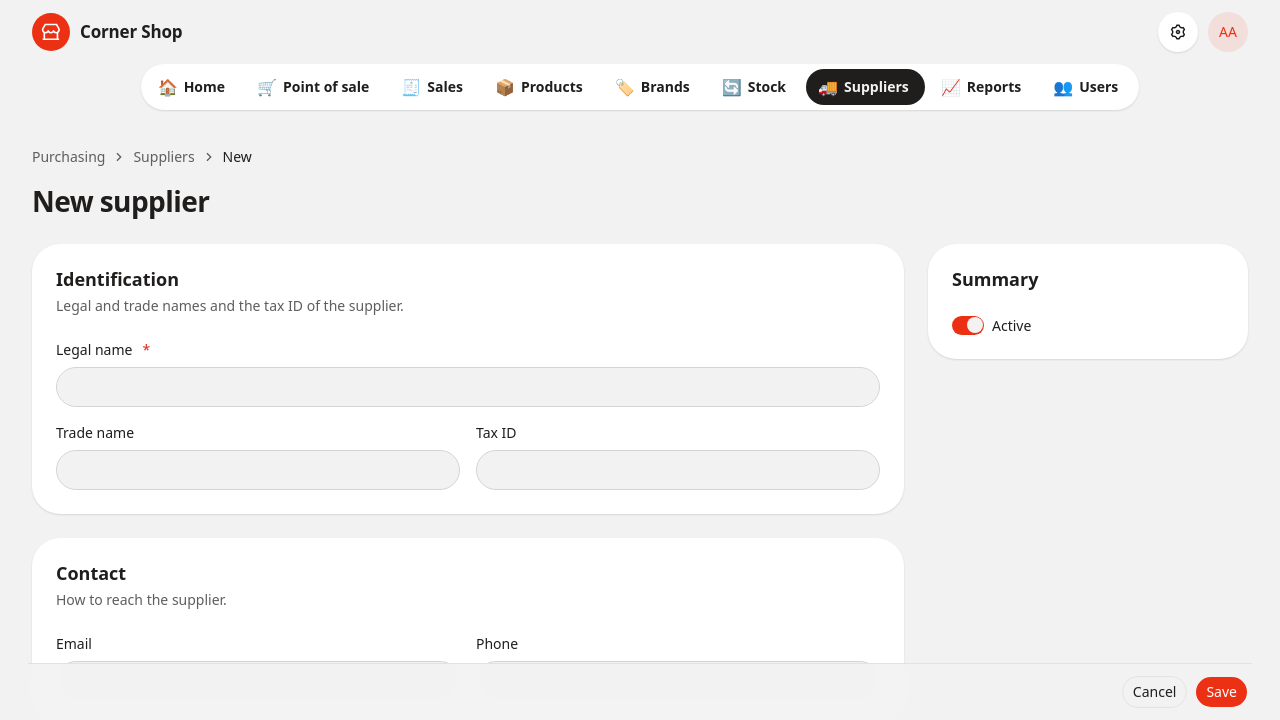
Scenario: SupplierFormPage › shows a duplicate tax ID error on the field
The width and height of the screenshot is (1280, 720).
In the field labelled "Legal name": (468, 387) 56,367 -> 880,407, type "Acme Ltda"
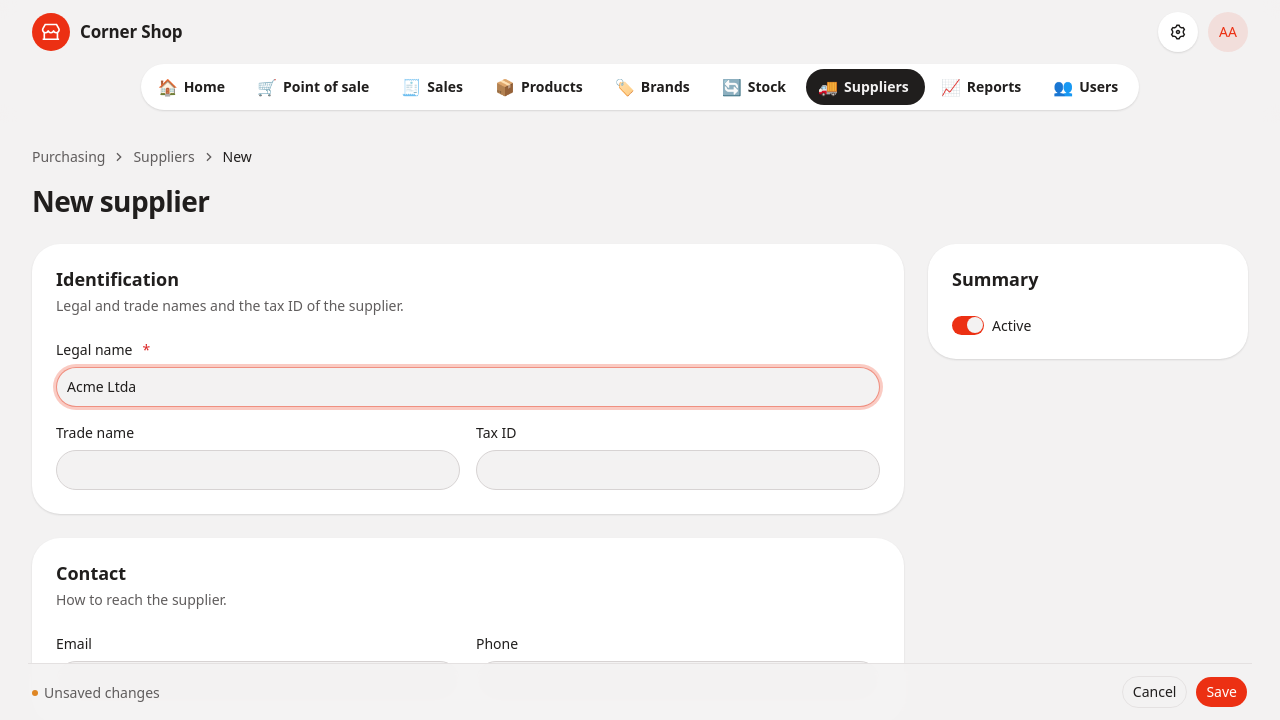
In the field labelled "Tax ID": (678, 470) 476,450 -> 880,490, type "123"
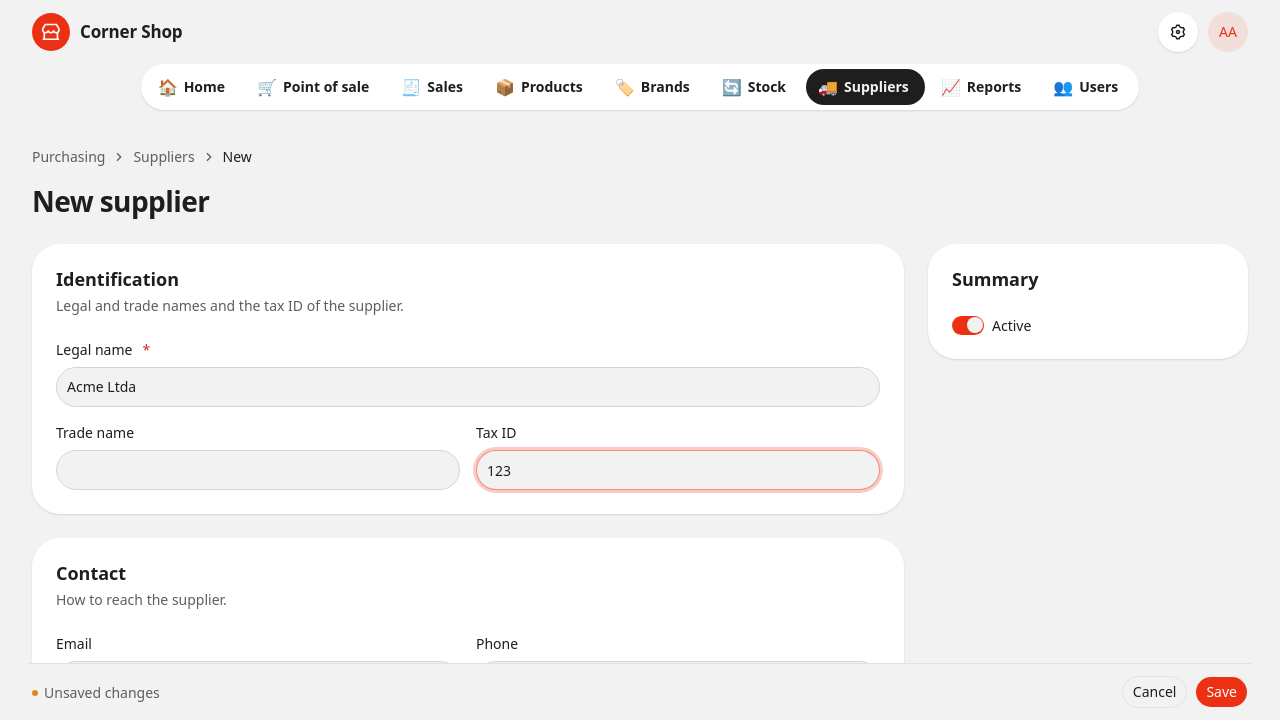
Click the button "Save": (1222, 692) 1195,676 -> 1248,708
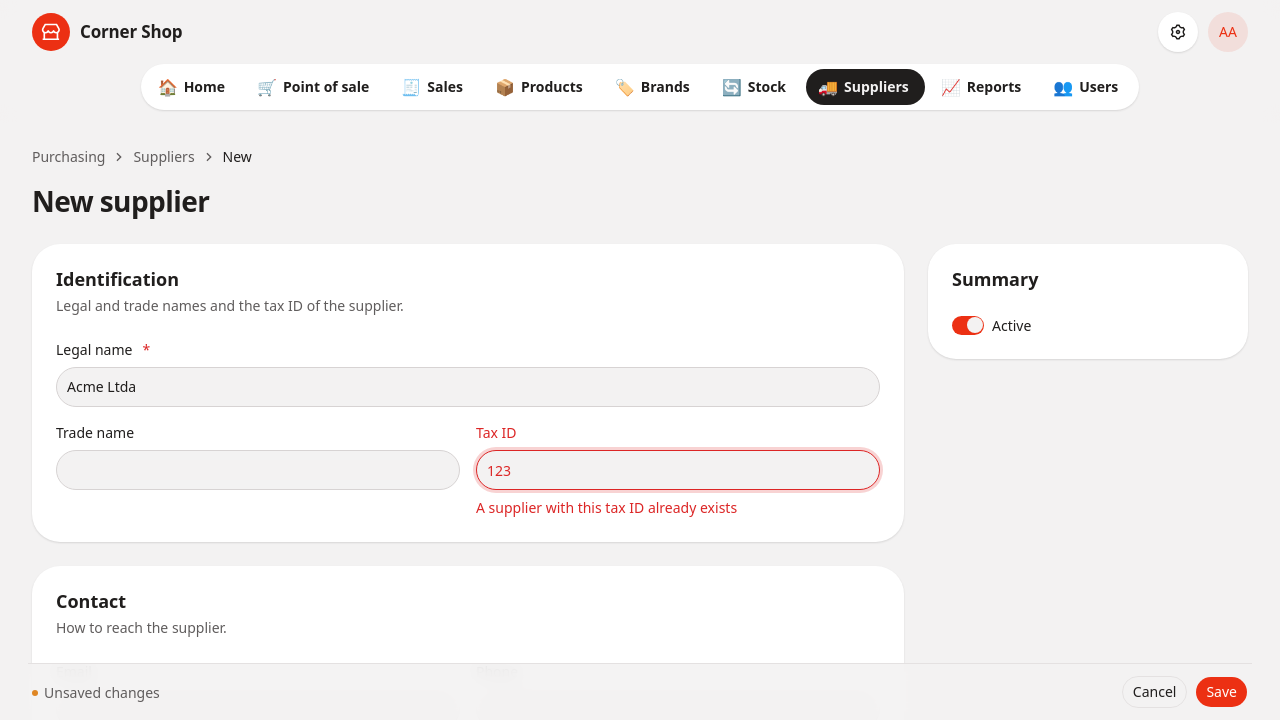
Result: the text "A supplier with this tax ID already exists" is shown at 476,498 -> 737,517
